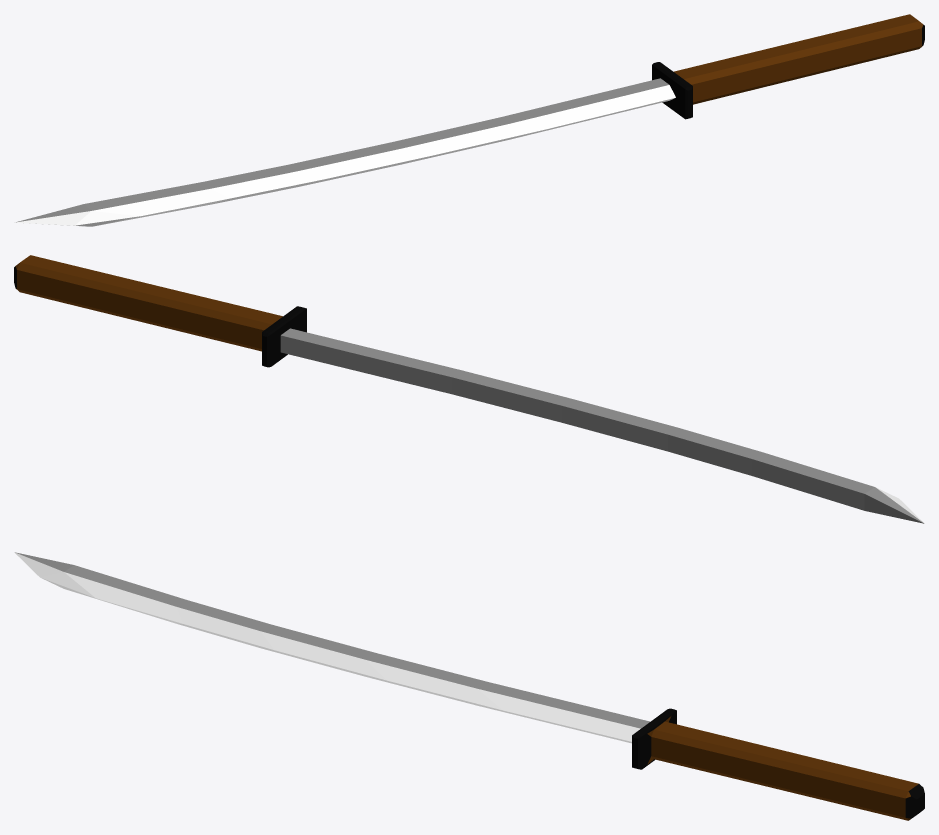
File: katana.fbx
3 renders of one model, top to bottom at view 1: azimuth 30°, elevation 25°; view 2: azimuth 150°, elevation 25°; view 3: azimuth 330°, elevation 25°, orthographic. The views are drawn at different scales.
Parts seen in each view (by area): view 1: Katana; view 2: Katana; view 3: Katana.
Part boxes in pixels (x1,y1,x2,y2): Katana: (15,14,924,226); Katana: (14,255,924,523); Katana: (14,552,924,820).
Bounding box in the file's own units: 0.1175 × 0.3154 × 3.4.
